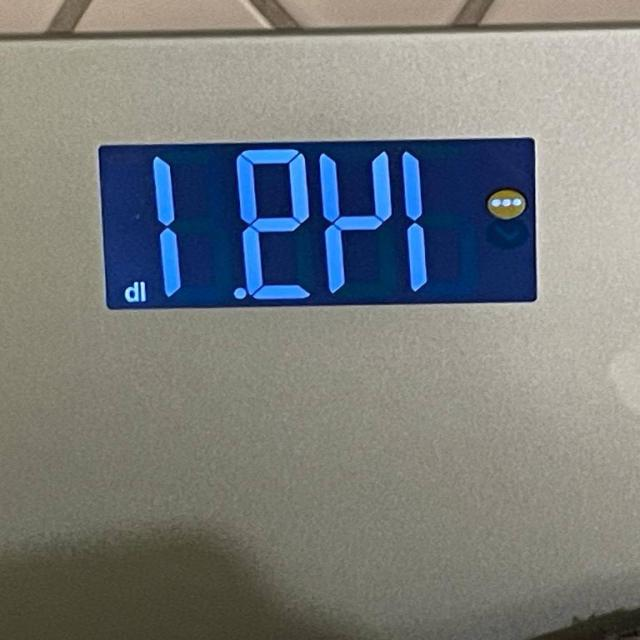ws: (1, 0, 640, 639)
